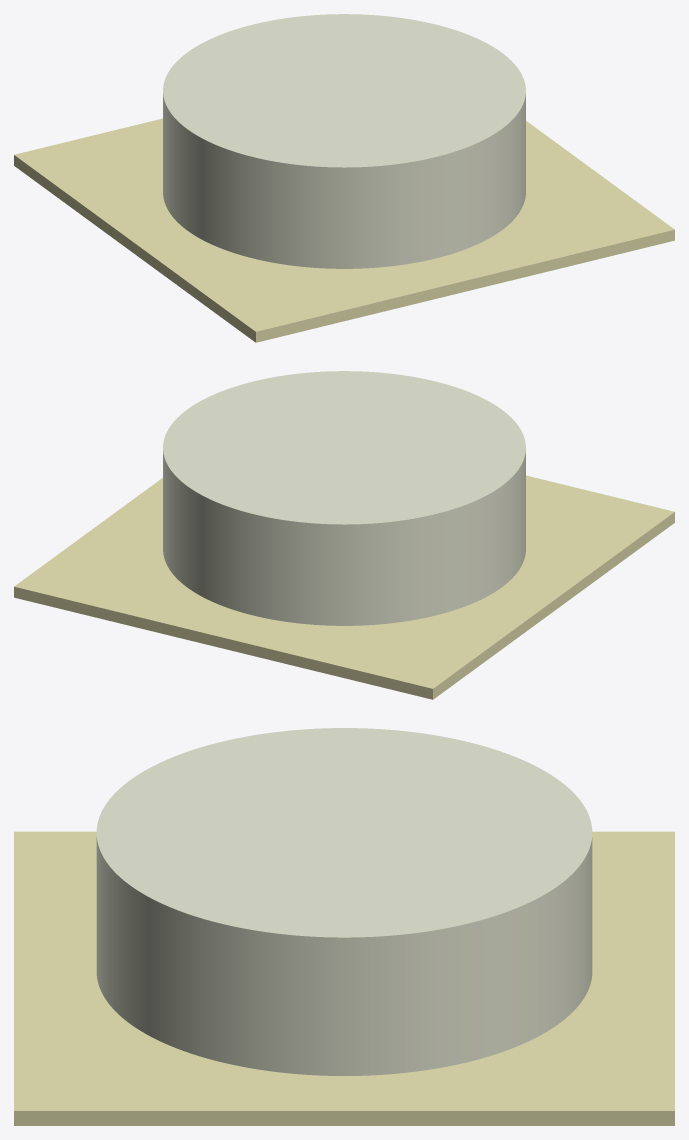
File: stage.glb
The picture shows the model from 3 angles, top to bottom: view 1: azimuth 30°, elevation 25°; view 2: azimuth 150°, elevation 25°; view 3: azimuth 270°, elevation 25°; orthographic projection. The views are drawn at different scales.
Parts seen in each view (by area): view 1: Cylinder; view 2: Cylinder; view 3: Cylinder.
Boxes of the visible parts, bbox=[...] form: Cylinder: bbox=[14, 14, 674, 342]; Cylinder: bbox=[14, 371, 674, 699]; Cylinder: bbox=[14, 728, 674, 1125].
Bounding box in the file's own units: 8 × 2.05 × 8.
